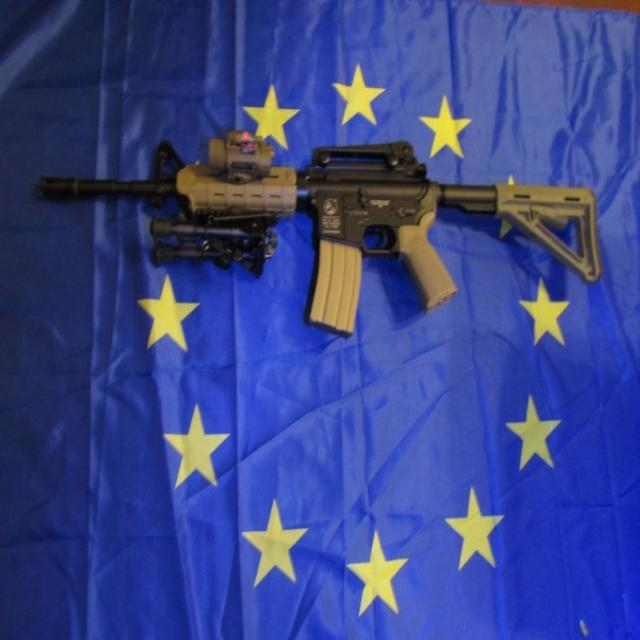firearm: (39, 131, 603, 334)
